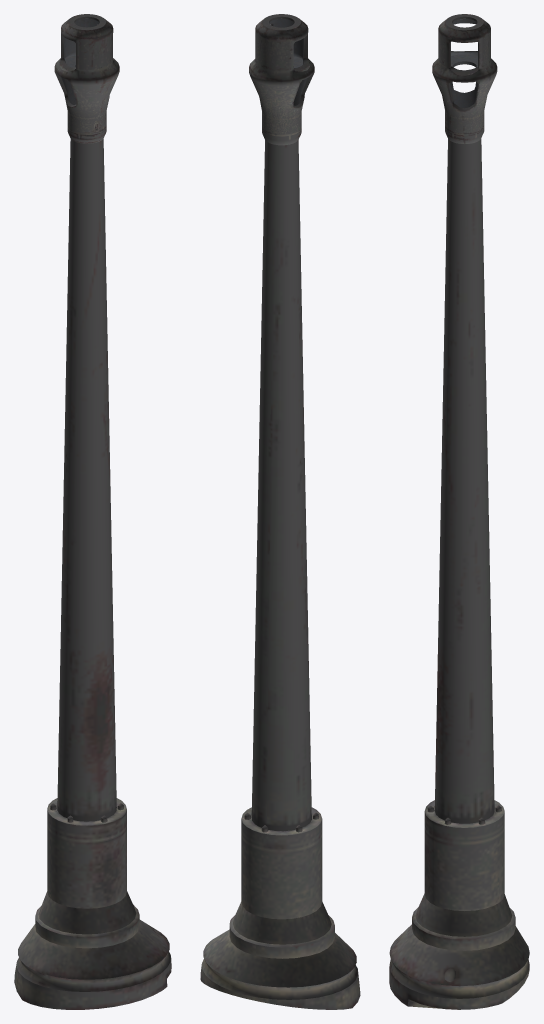
The model's file is Gun_02.glb.
3 views of the same model, side by side, from view 1: azimuth 30°, elevation 25°; view 2: azimuth 150°, elevation 25°; view 3: azimuth 270°, elevation 25° (orthographic).
Visible parts, largest first — view 1: set_0_group_0; view 2: set_0_group_0; view 3: set_0_group_0.
Boxes of the visible parts, bbox=[...] form: set_0_group_0: bbox=[14, 14, 171, 1009]; set_0_group_0: bbox=[200, 14, 360, 1009]; set_0_group_0: bbox=[389, 14, 529, 1009].
Size of the model in its own units: 0.7126 by 4.63 by 0.6135.
1 material, 1 textured.
